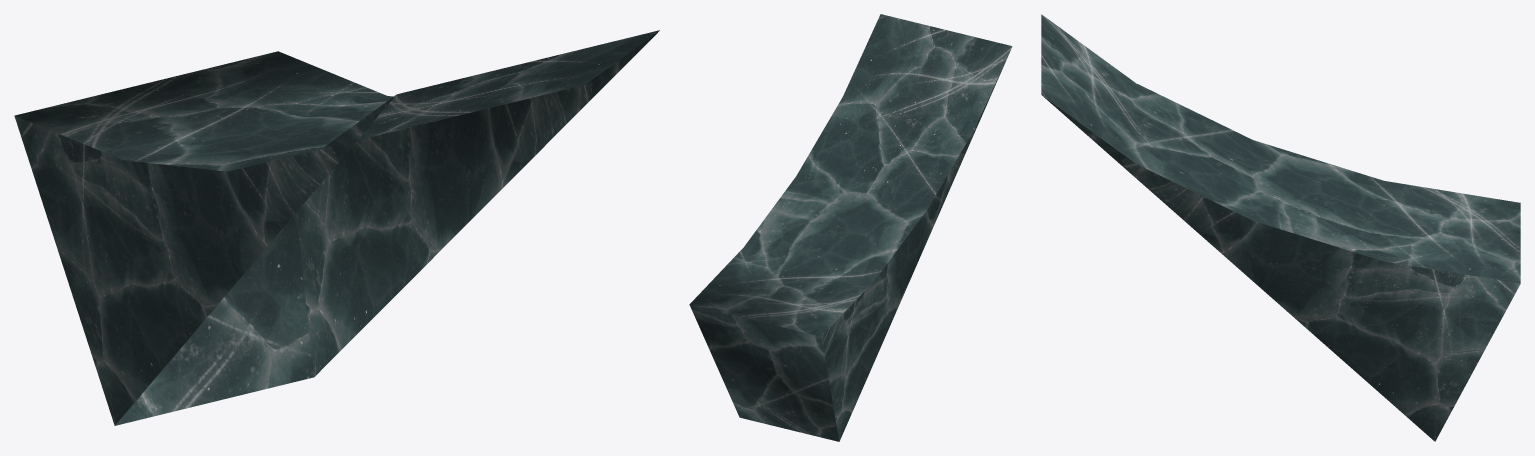
Rendered from Dragonfly_IceSlide_Straight_Ramp_Small.fbx.
3 views of the same model, side by side, from view 1: azimuth 30°, elevation 25°; view 2: azimuth 150°, elevation 25°; view 3: azimuth 270°, elevation 25° (orthographic). The views are drawn at different scales.
Parts seen in each view (by area): view 1: Slide Ramp Small; view 2: Slide Ramp Small; view 3: Slide Ramp Small.
Boxes of the visible parts, <box> form: Slide Ramp Small: <box>14,30,659,425</box>; Slide Ramp Small: <box>689,14,1012,441</box>; Slide Ramp Small: <box>1041,14,1520,441</box>.
Size of the model in its own units: 2 by 4.12 by 5.02.
